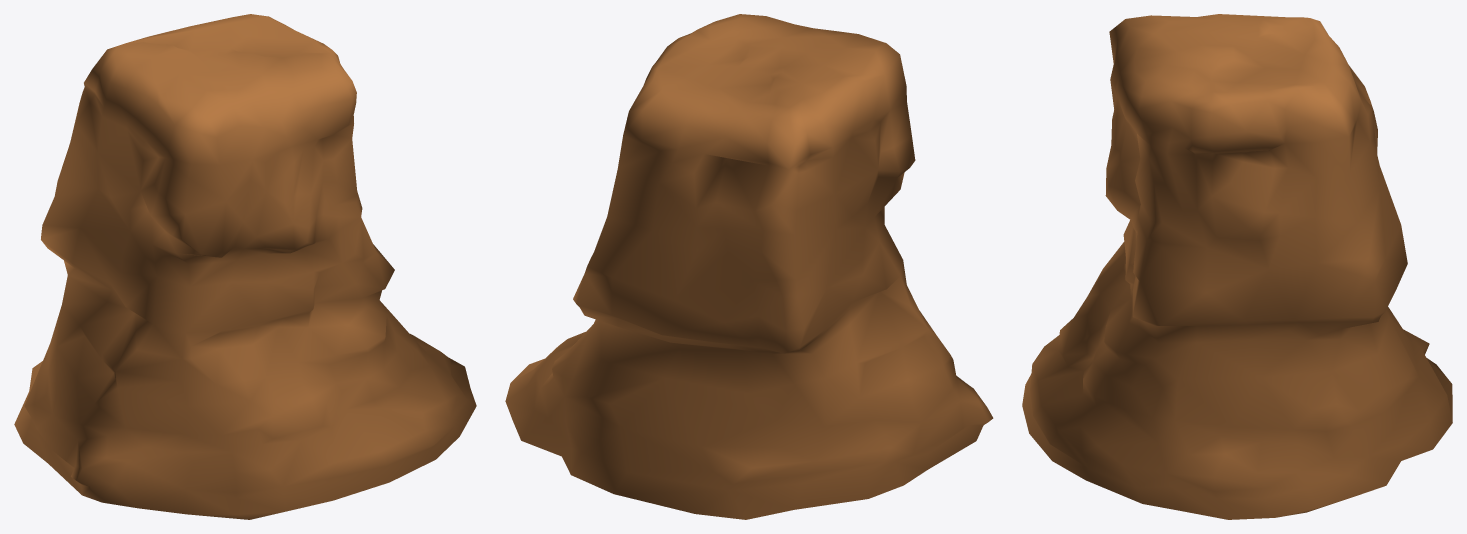
The model's file is MSH_Rocks_Cliff_21_b.FBX.
3 views of the same model, side by side, from view 1: azimuth 30°, elevation 25°; view 2: azimuth 150°, elevation 25°; view 3: azimuth 270°, elevation 25° (orthographic). The views are drawn at different scales.
Visible parts, largest first — view 1: MESH_LOD0; view 2: MESH_LOD0; view 3: MESH_LOD0.
Part boxes in pixels (x1=…): MESH_LOD0: x1=14, y1=14, x2=476, y2=519; MESH_LOD0: x1=505, y1=14, x2=993, y2=519; MESH_LOD0: x1=1022, y1=14, x2=1452, y2=519.
Size of what is drawn, in the model's own units: 349 by 300 by 310.
